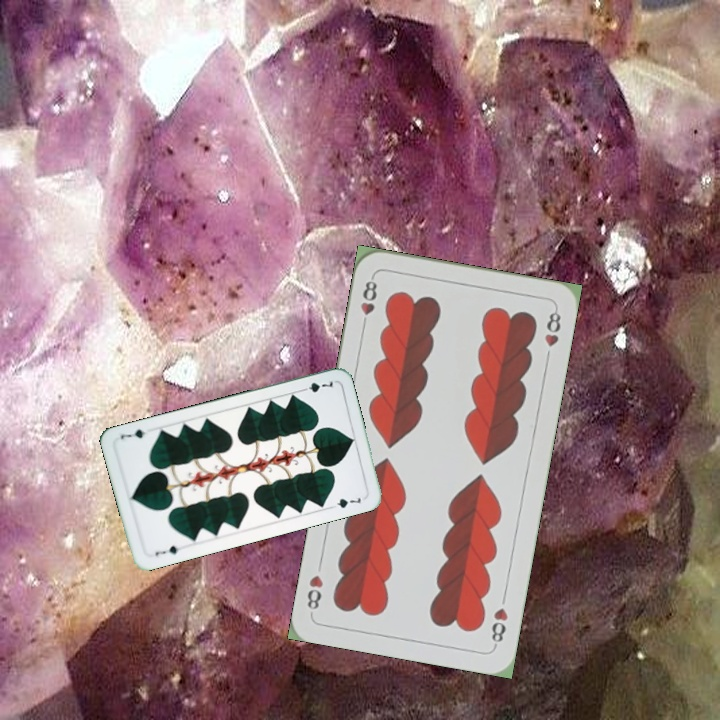G7: (296, 377, 336, 395), (151, 542, 181, 559)
H8: (356, 272, 380, 331), (487, 603, 511, 650)
